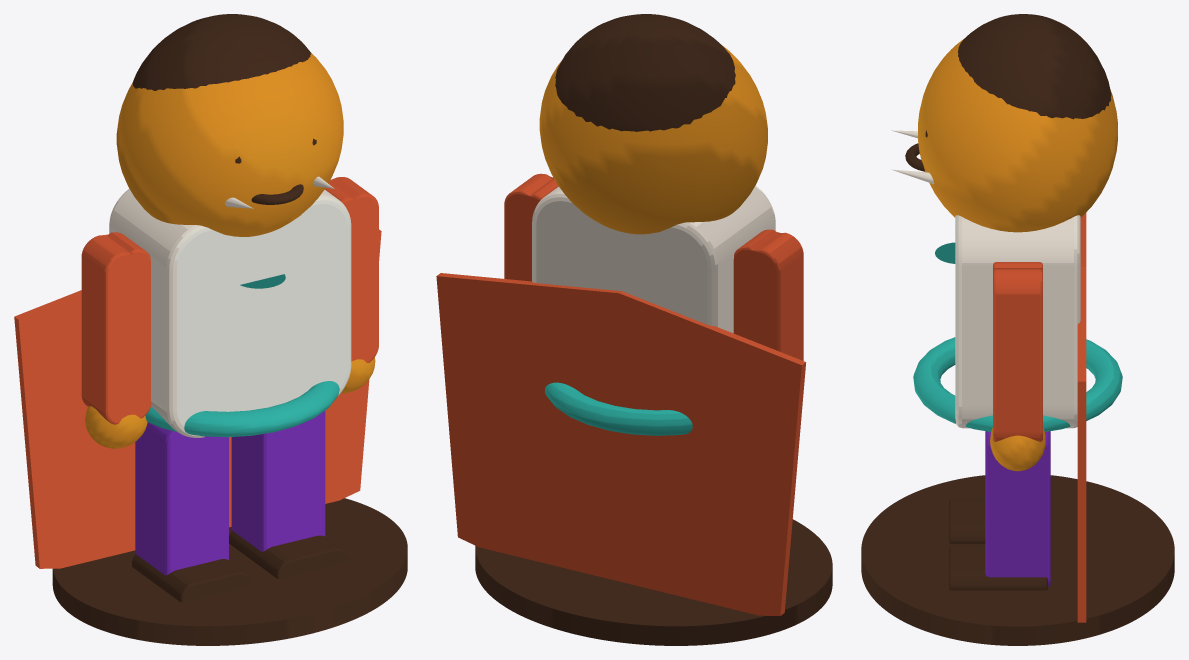
File: 0765_天气与气候图鉴_气象气球.glb
The picture shows the model from 3 angles, left to right: view 1: azimuth 30°, elevation 25°; view 2: azimuth 150°, elevation 25°; view 3: azimuth 270°, elevation 25°; orthographic projection.
Visible parts, largest first — view 1: card_0765; view 2: card_0765; view 3: card_0765.
Boxes of the visible parts, <box> form: card_0765: <box>14,14,407,645</box>; card_0765: <box>436,14,832,645</box>; card_0765: <box>861,14,1174,645</box>.
Bounding box in the file's own units: 0.6739 × 1 × 0.5096.
